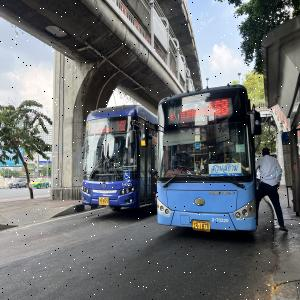BMTA-bus: (155, 86, 259, 235)
Bus Line Number: (208, 97, 229, 115), (116, 119, 127, 132)
Bus Side Number: (210, 216, 229, 225), (120, 182, 132, 187)
Destination Sign: (210, 163, 242, 177), (90, 122, 113, 133)
TSB-Bus: (81, 105, 158, 213)
